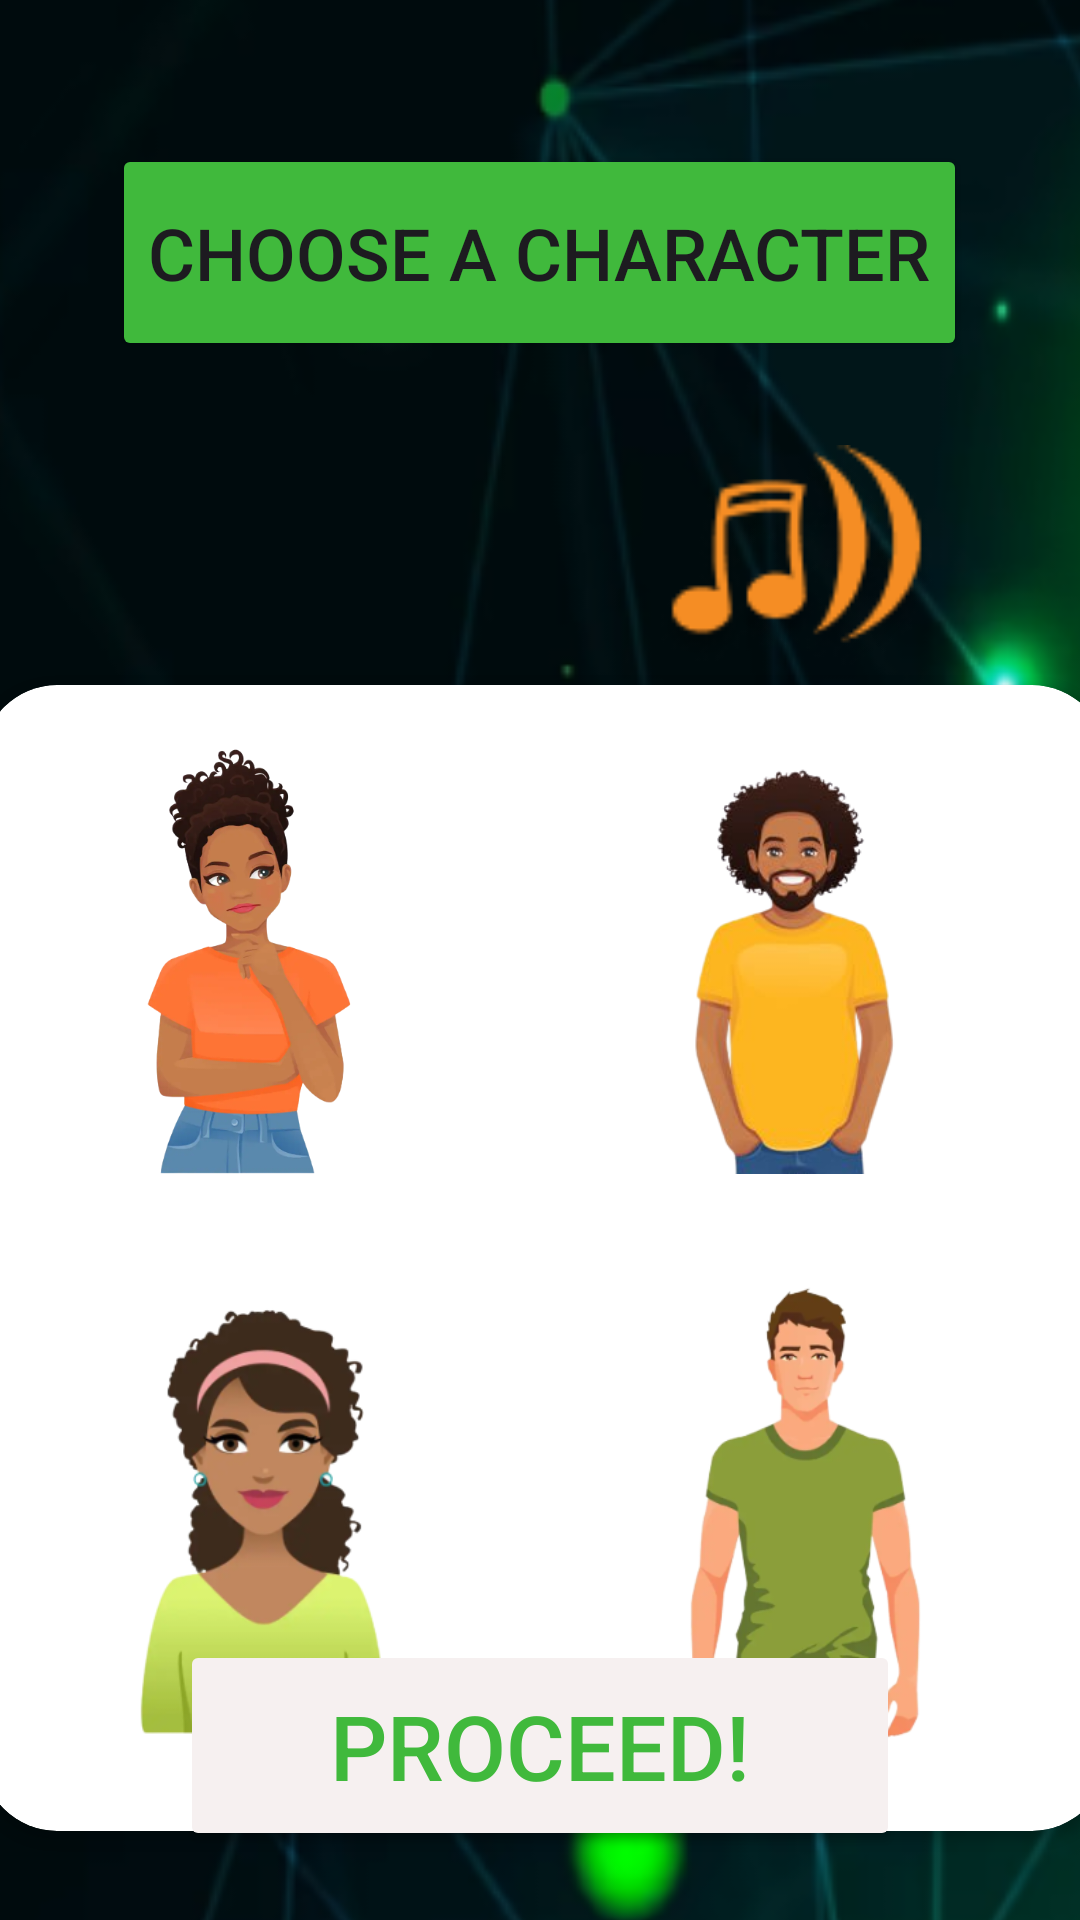

Named icons in this screenshot (1080x1920) and their bounding boxes, region(x1, y1, x2, y2):
music: region(671, 433, 936, 642)
